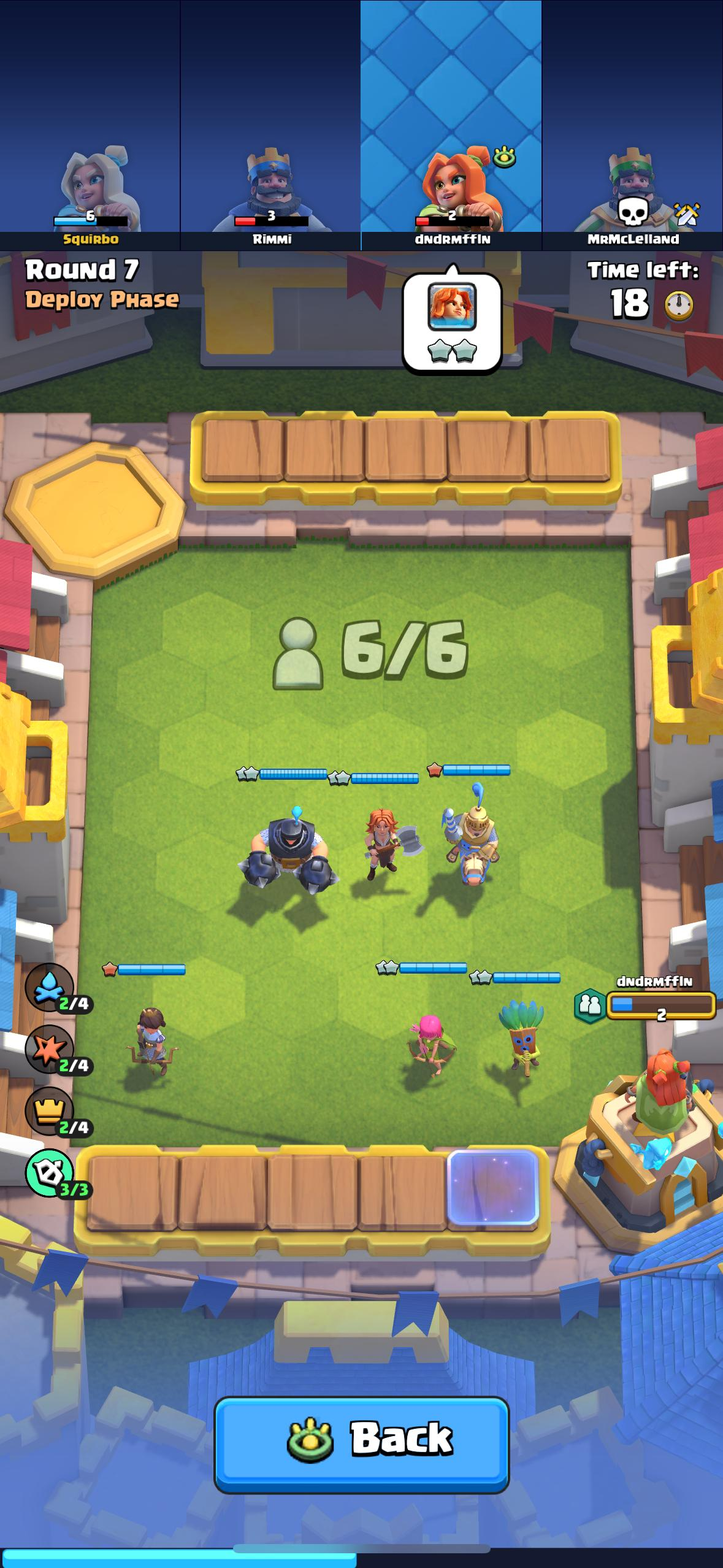archer: (404, 1005, 460, 1081)
dart: (493, 988, 551, 1075)
mega: (244, 806, 341, 898)
prince: (434, 785, 505, 892)
princess: (128, 1000, 178, 1085)
valkyrie: (362, 804, 420, 884)
